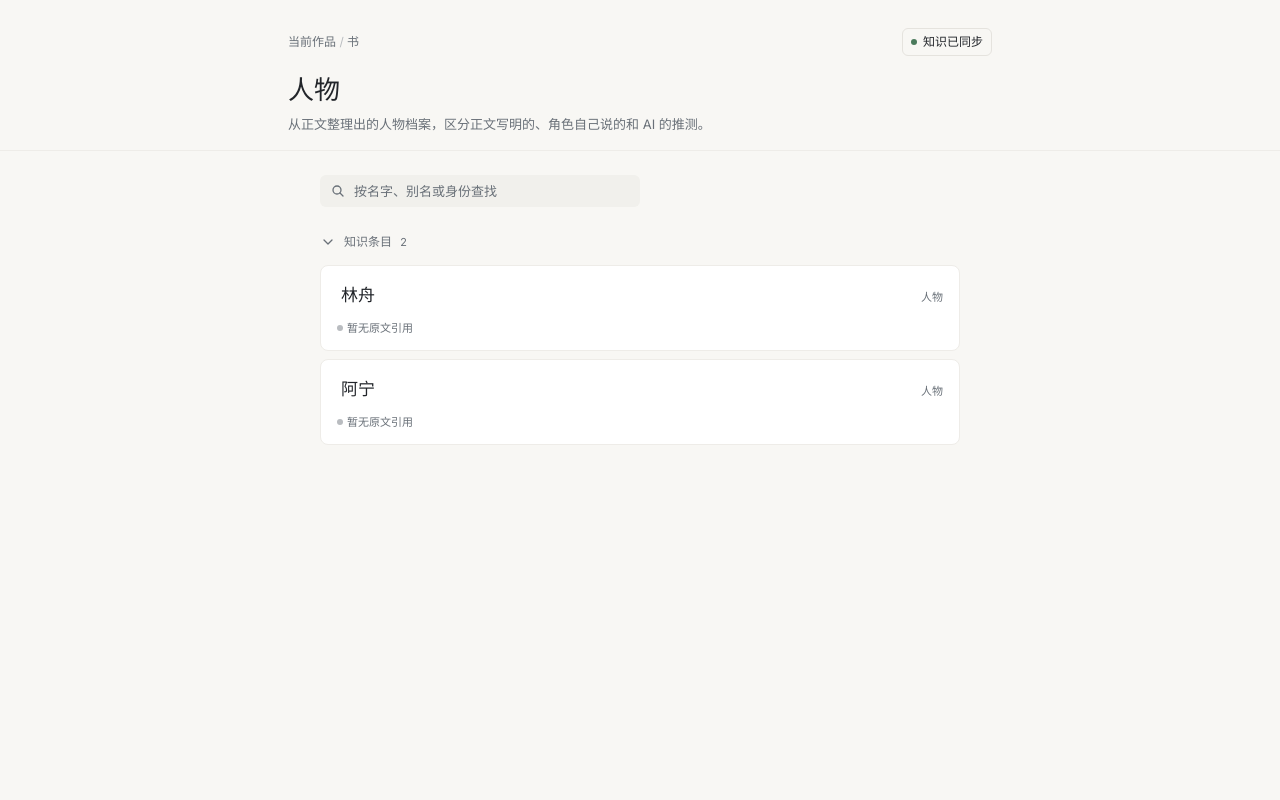
Test: private AI memory › loads facts on demand when a typed-category entity opens
Expected: the heading "林舟" is shown, [341, 283, 375, 309]
Click the button with aria-label "打开林舟详情".
click(358, 296)  # box [329, 280, 387, 312]
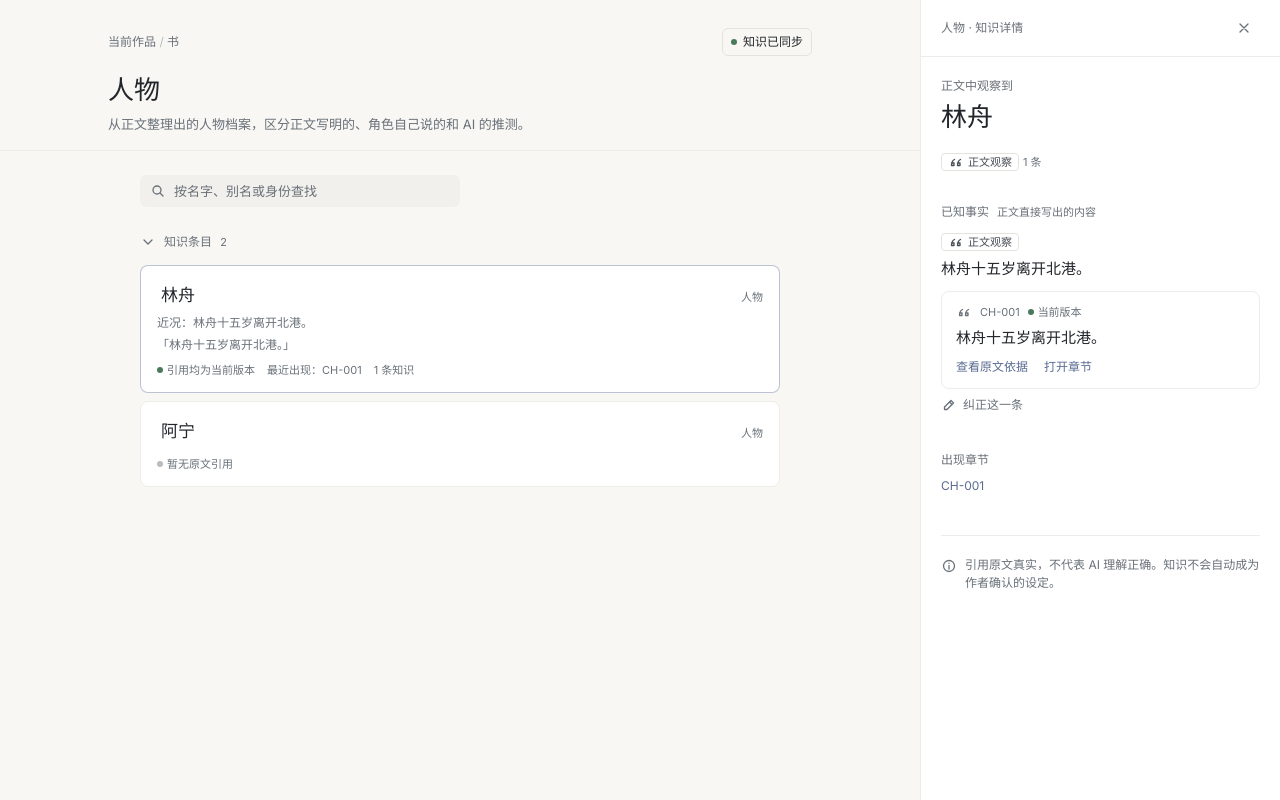
Result: the text "「林舟十五岁离开北港。」" is shown at [157, 338, 295, 352]
